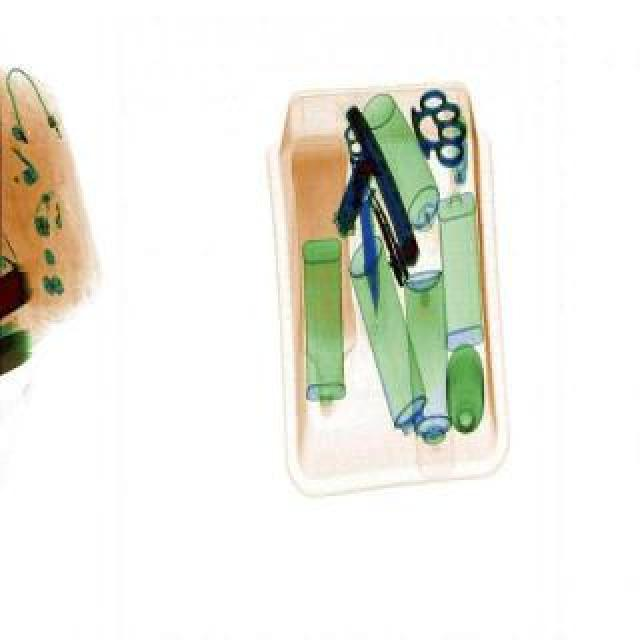knife: (328, 142, 392, 240), (406, 84, 474, 172), (356, 172, 388, 316)
